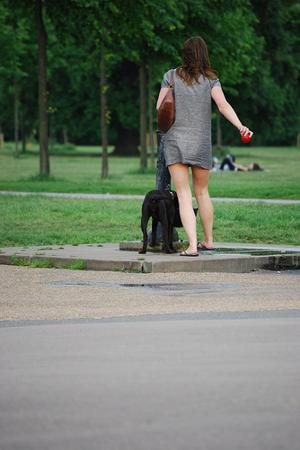person: (161, 38, 248, 256)
